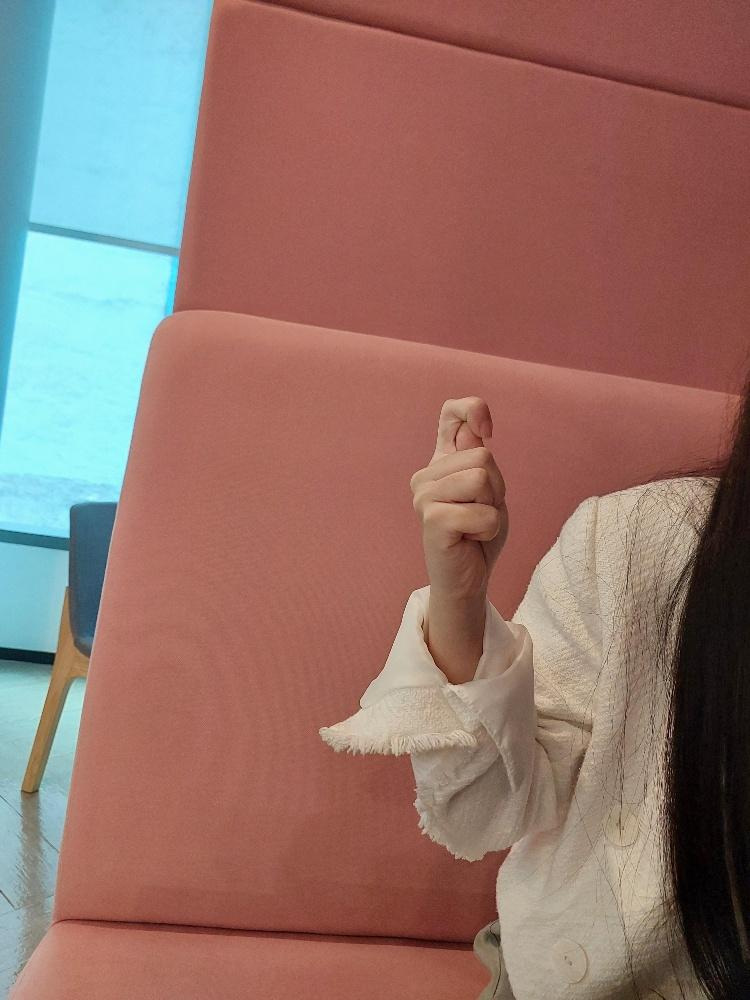t: (409, 397, 507, 589)
